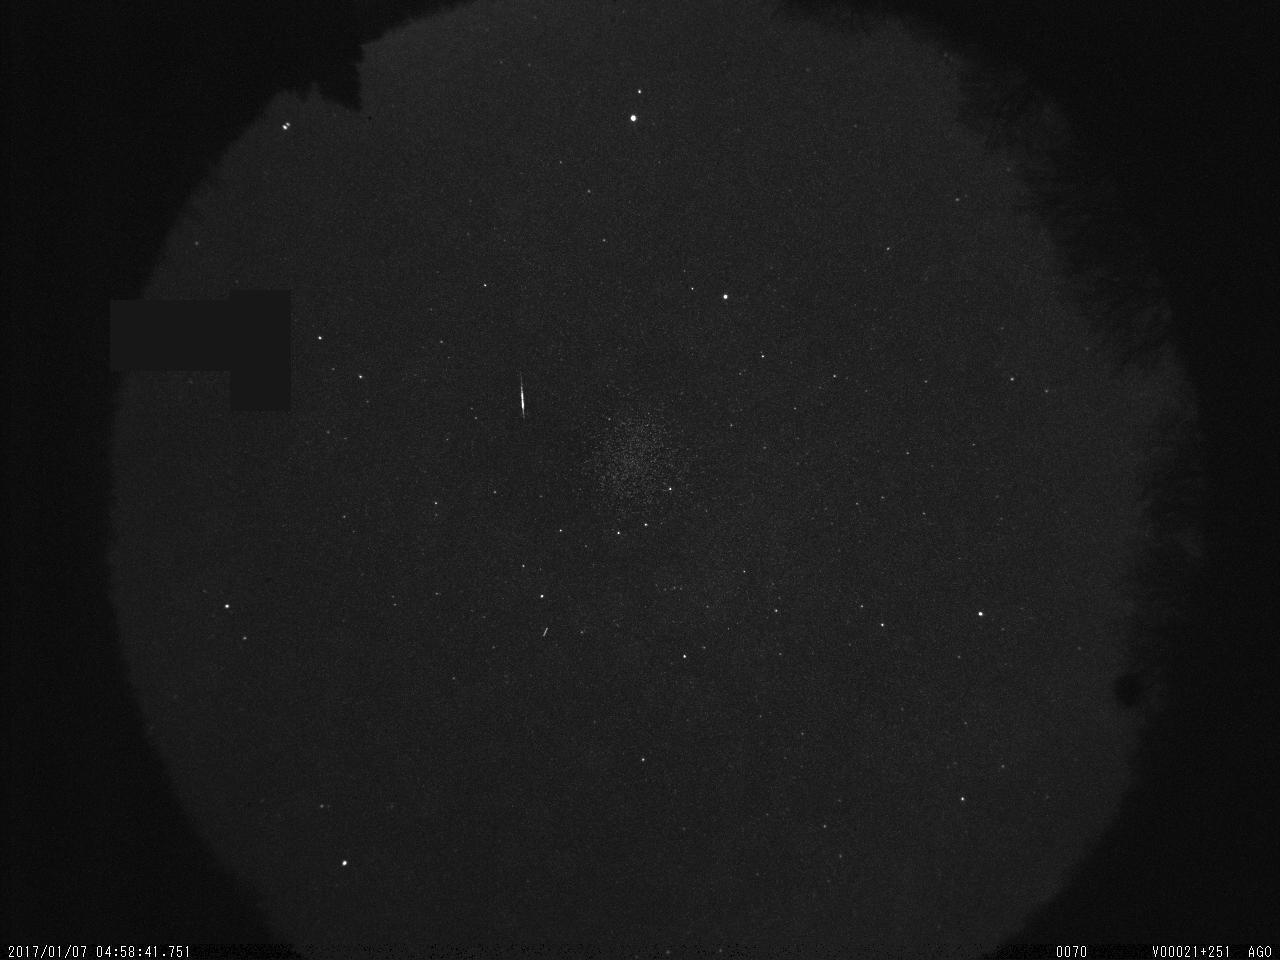Meteor: (514, 363, 533, 427)
